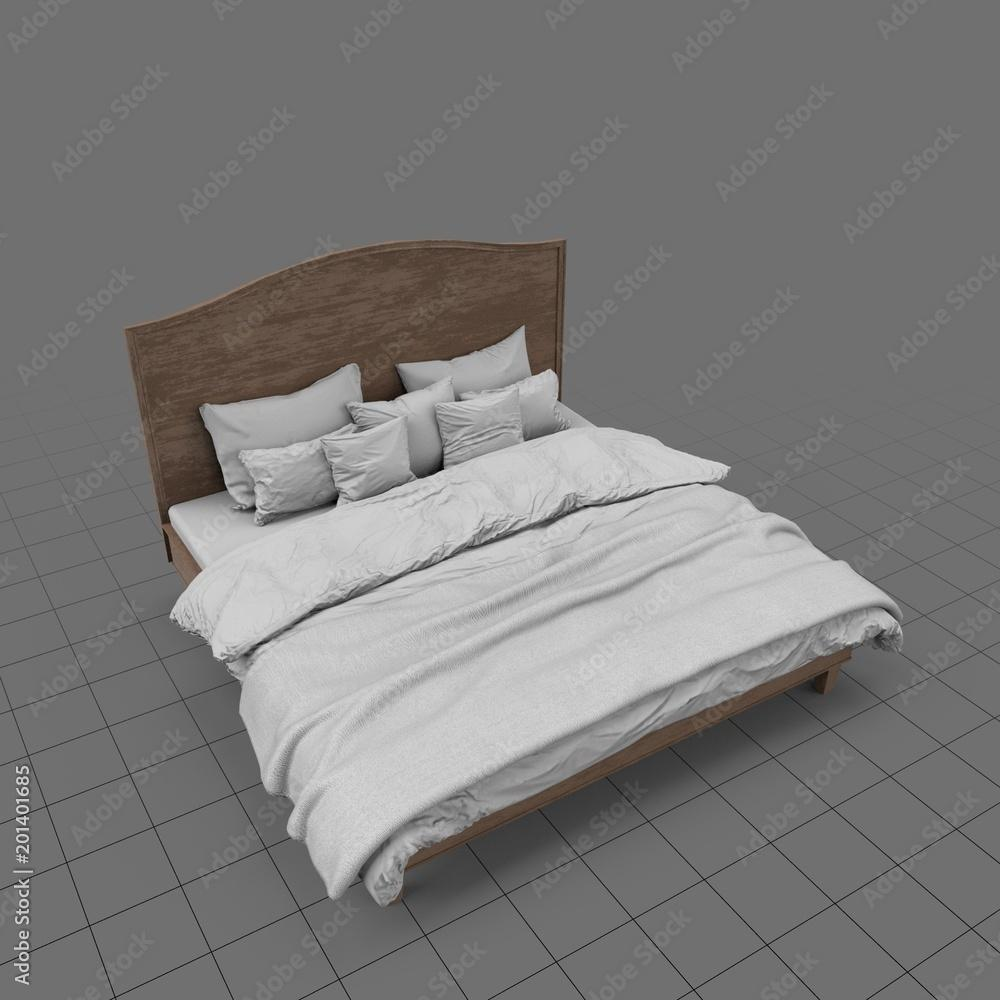bed: (140, 207, 878, 837)
